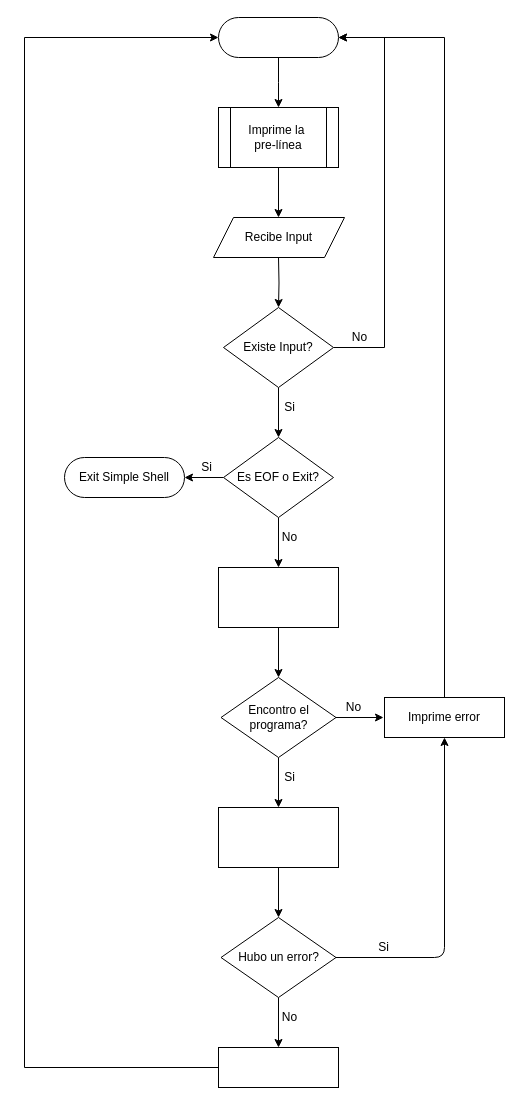
The diagram is 522 pixels wide and 1105 high, and some of its shapes have lost their labels. Here are the shapes that lost their labels. From the top down, the centre of each, then its label:
the point at 278,37: Inicio
the point at 278,597: Recorre todas las opciones de PATH
the point at 278,837: Ejecuta Execve en el PATH
the point at 278,1067: Corre el programa
